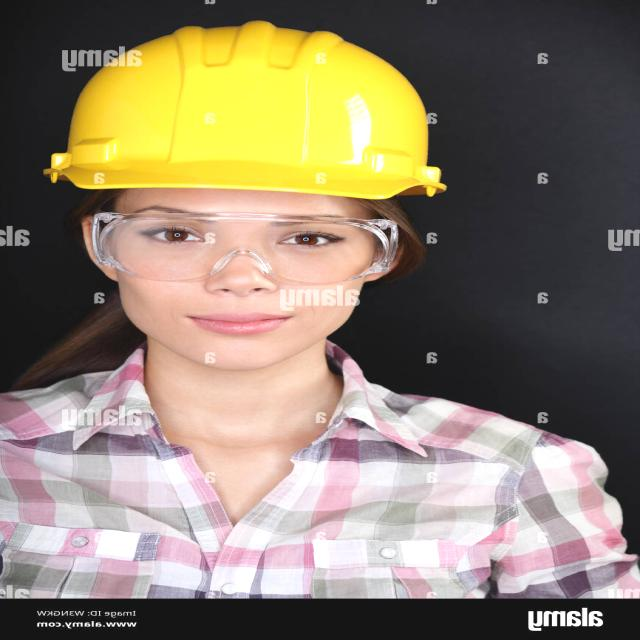goggles: (76, 207, 405, 300)
helmet: (78, 19, 464, 203)
no-vest: (15, 352, 516, 602)
